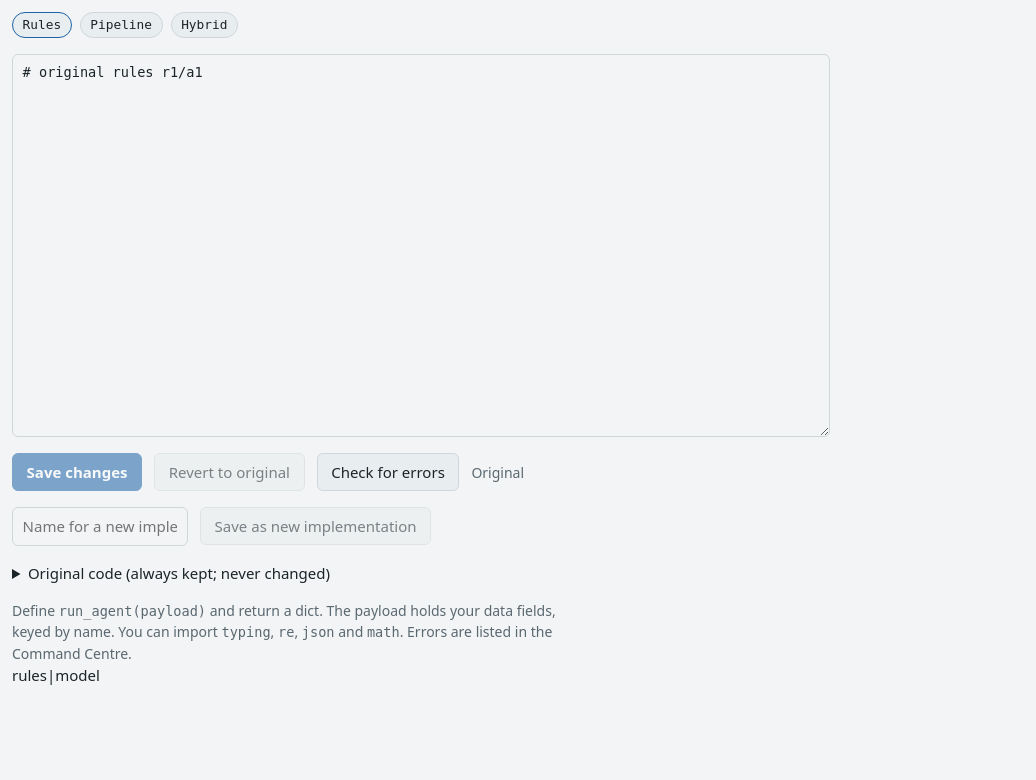
Scenario: CodePanel revert (built-ins) › reverts a saved edit, even when the editor already matches it
The image size is (1036, 780).
Replace the text in the text box named "Python Source" with "x = 1" at {"x": 421, "y": 246}, box x1=12 y1=54 x2=830 y2=437
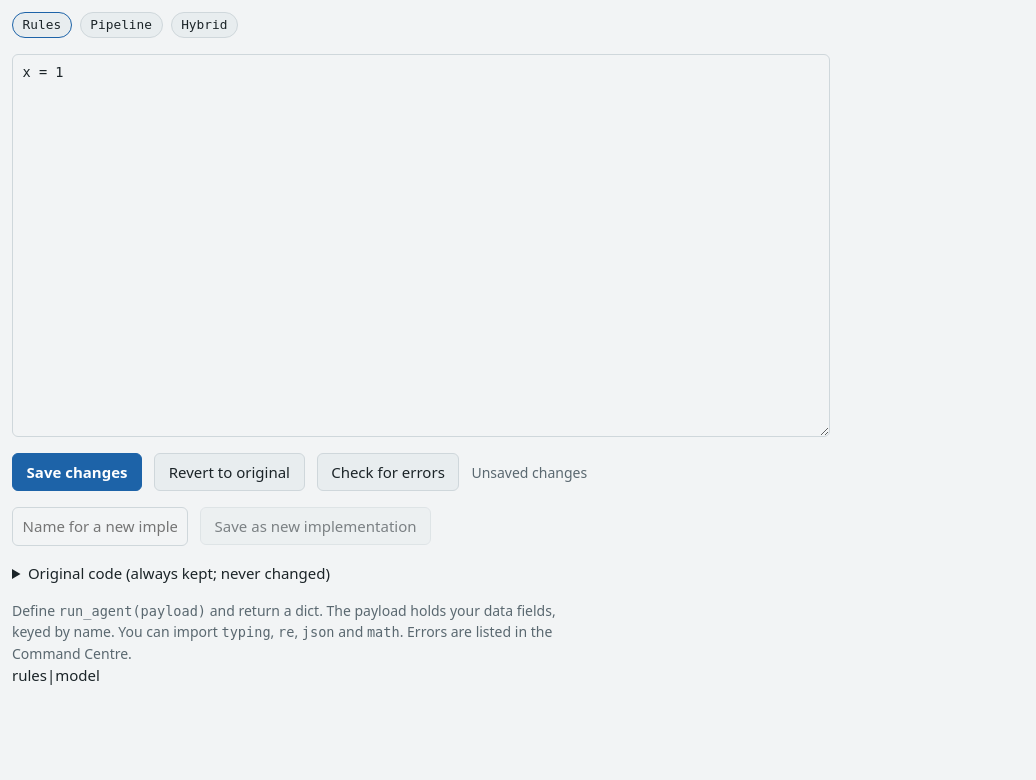
Click the button "Save changes".
click(77, 472)  # box x1=12 y1=453 x2=142 y2=491
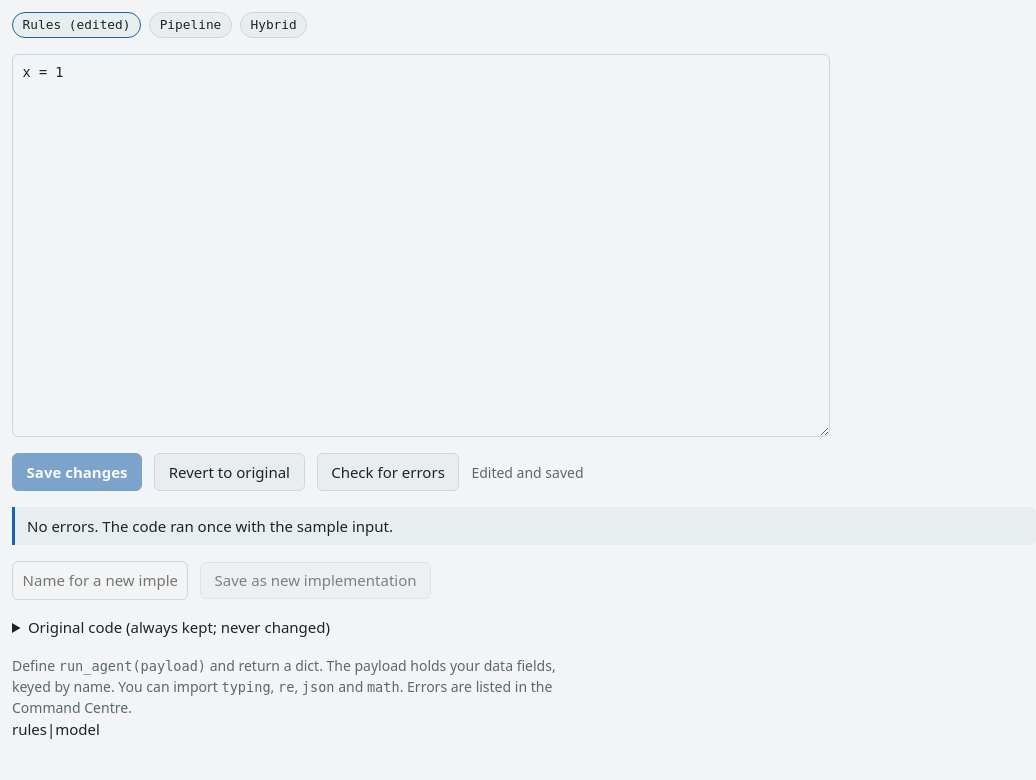
Expected: the button "Revert to original" is enabled
Expected: the text "Edited and saved" is shown, x1=471 y1=462 x2=584 y2=482
Click the button "Revert to original".
click(229, 472)  # box x1=154 y1=453 x2=305 y2=491
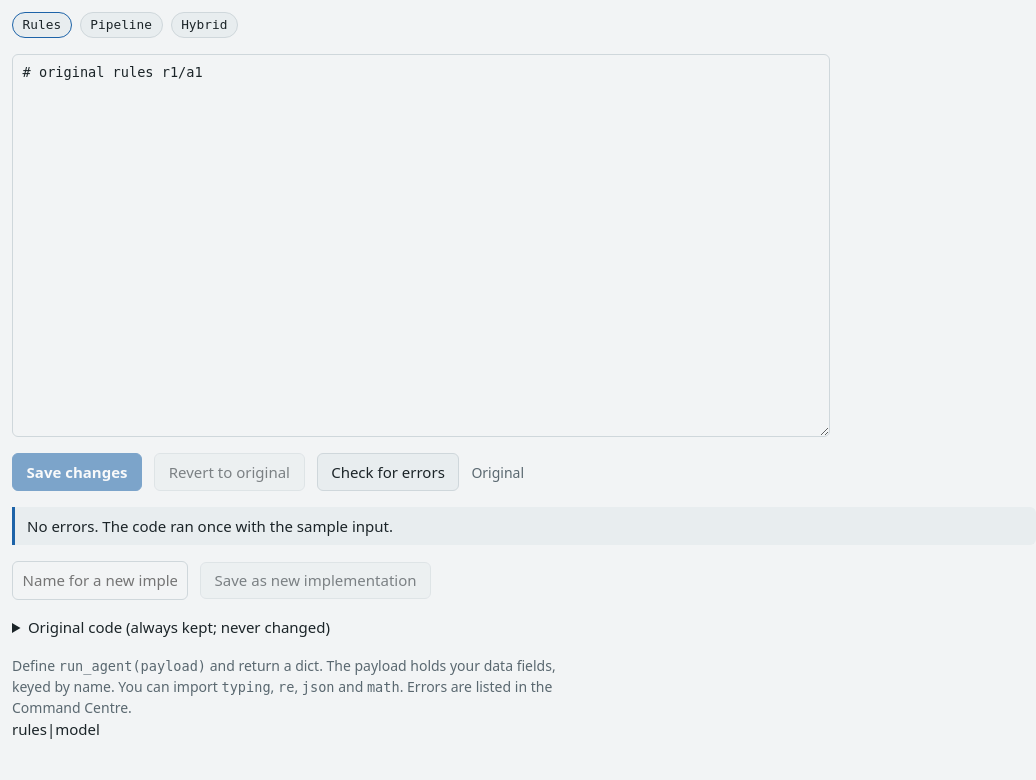
Expected: the button "Rules" is shown, x1=12 y1=12 x2=72 y2=38
Expected: the text "Edited and saved" reads "Original", x1=471 y1=462 x2=524 y2=482
